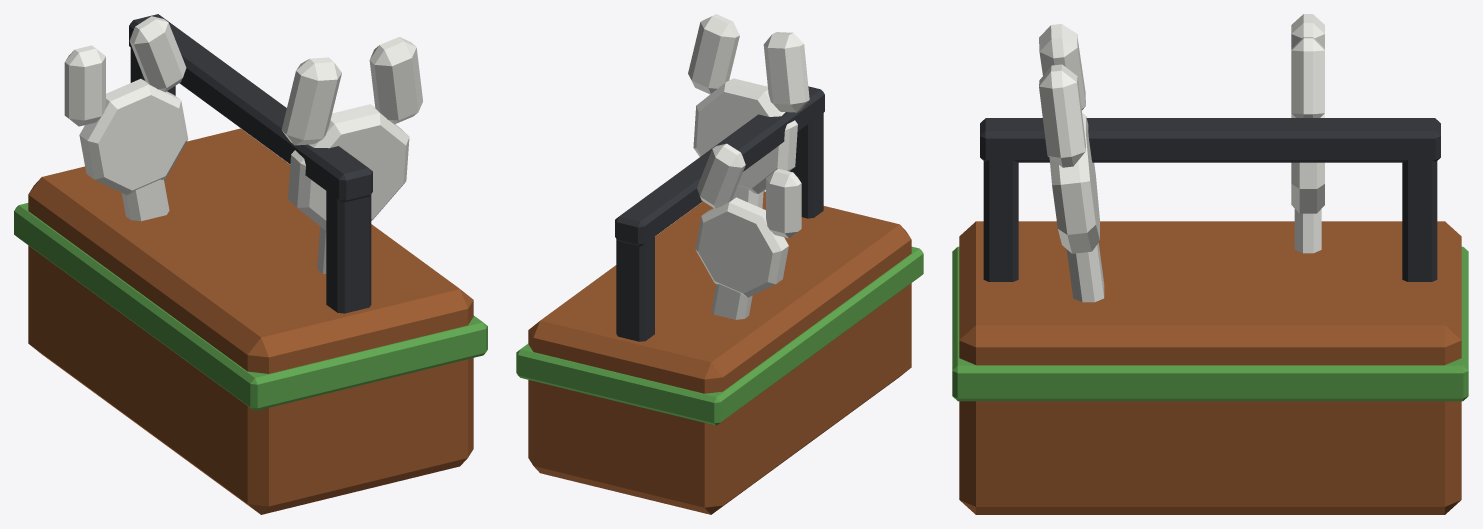
The model's file is MenderKit4.obj.
3 renders of one model, left to right at view 1: azimuth 30°, elevation 25°; view 2: azimuth 150°, elevation 25°; view 3: azimuth 270°, elevation 25°, orthographic. The views are drawn at different scales.
Visible parts, largest first — view 1: MenderKit4; view 2: MenderKit4; view 3: MenderKit4.
Part boxes in pixels (box(x1,y1,x2,y2)): MenderKit4: box(14, 14, 487, 514); MenderKit4: box(516, 14, 923, 514); MenderKit4: box(952, 14, 1468, 514).
Bounding box in the file's own units: 0.2274 × 0.3426 × 0.37.
